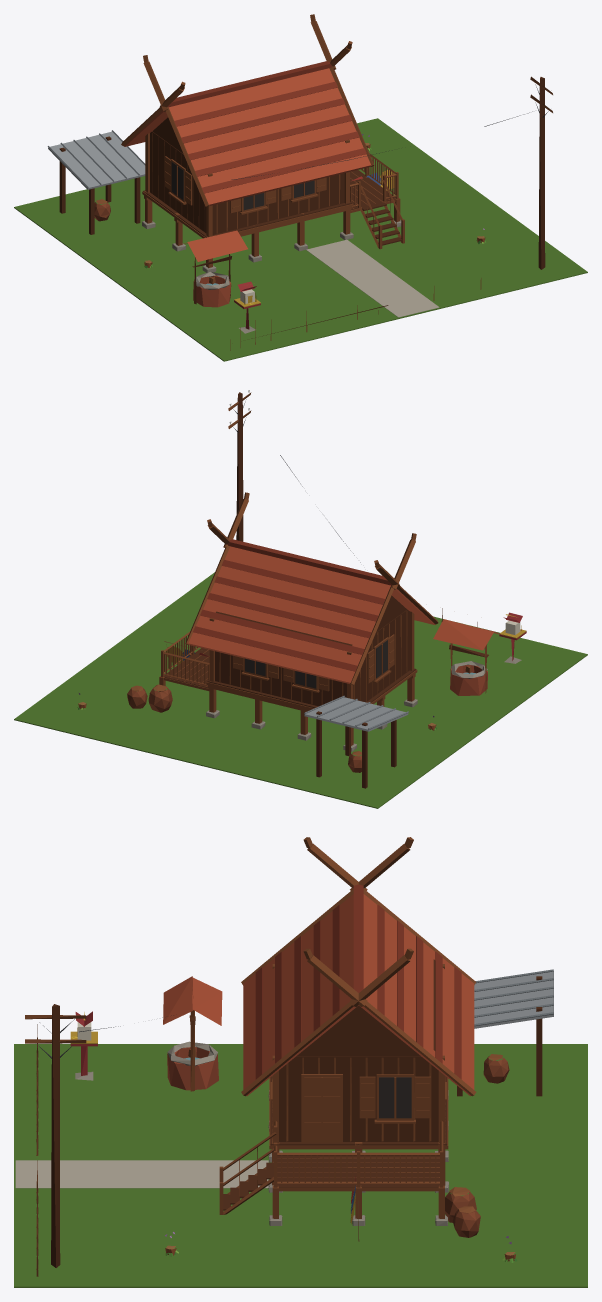
Rendered from home_1.glb.
The picture shows the model from 3 angles, top to bottom: view 1: azimuth 30°, elevation 25°; view 2: azimuth 150°, elevation 25°; view 3: azimuth 270°, elevation 25°; orthographic projection. The views are drawn at different scales.
Parts seen in each view (by area): view 1: body, windows; view 2: body, windows; view 3: body, windows.
Boxes of the visible parts, x1,y1,x2,y2 form: body: [14, 14, 587, 361]; windows: [171, 162, 314, 210]; body: [14, 390, 587, 808]; windows: [245, 640, 387, 688]; body: [14, 837, 587, 1287]; windows: [379, 1077, 411, 1118].
Size of the model in its own units: 15.9 by 8.21 by 15.9.
